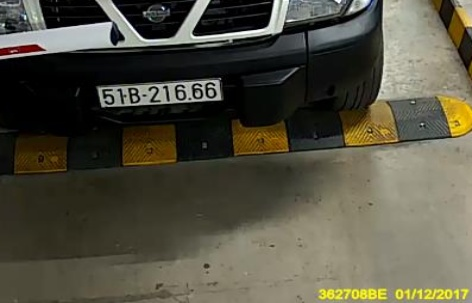plate: (94, 77, 225, 104)
